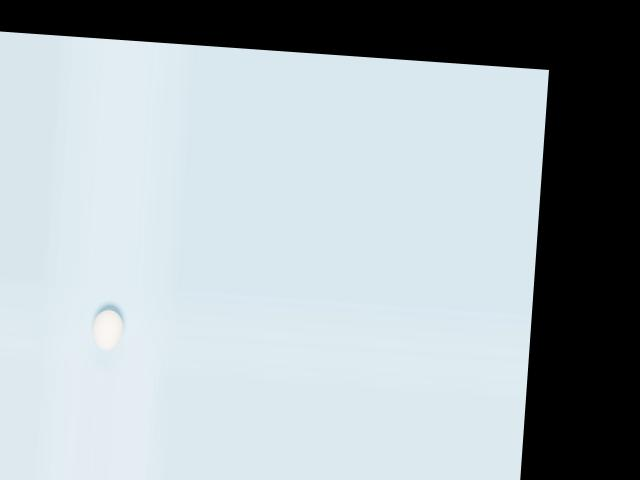egg: (91, 308, 124, 351)
